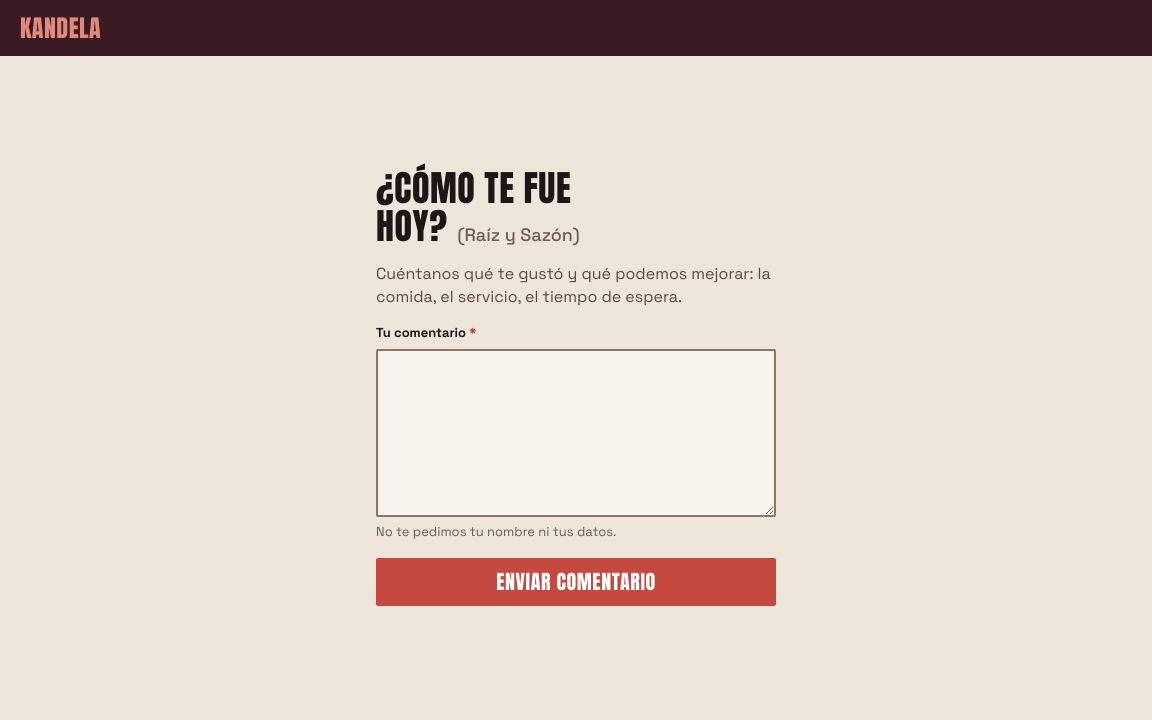
Test: ResenaCliente › sin comentario lo pide y no llama al servidor
The width and height of the screenshot is (1152, 720).
What coordinates should you click on to do the following:
click the button "Enviar comentario"
I would click on:
 (576, 582)
Its box is [376, 558, 776, 606].
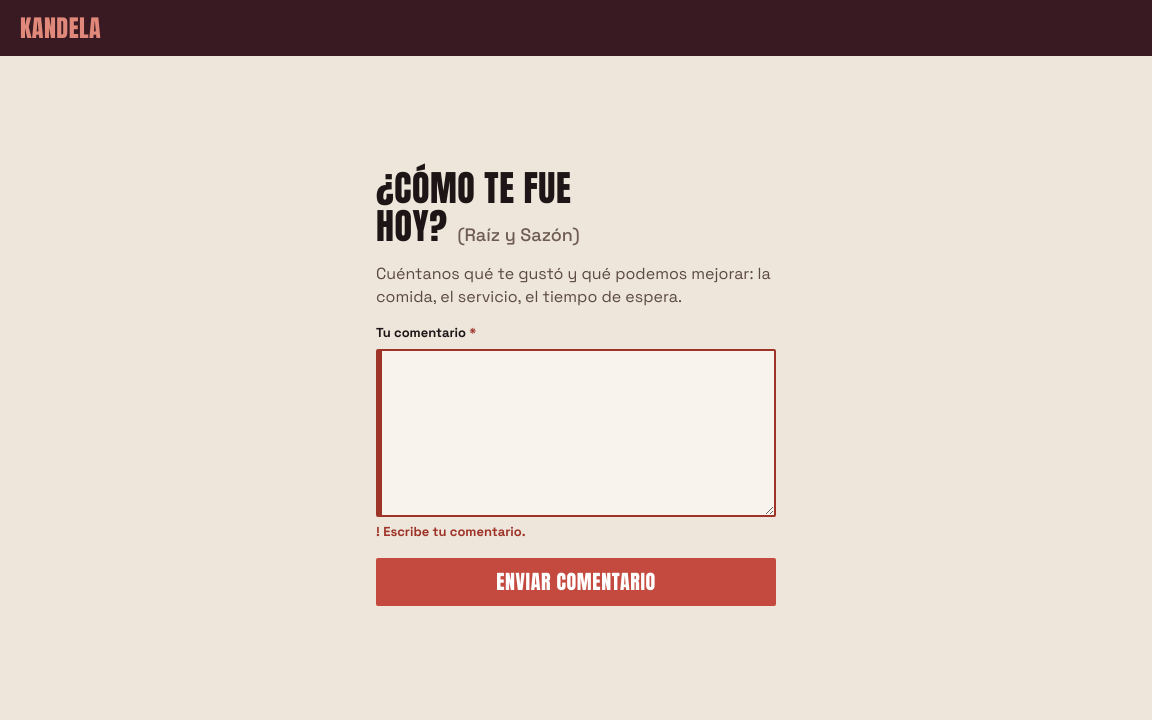
Check: the text "! Escribe tu comentario." is shown, box [376, 523, 526, 540]
